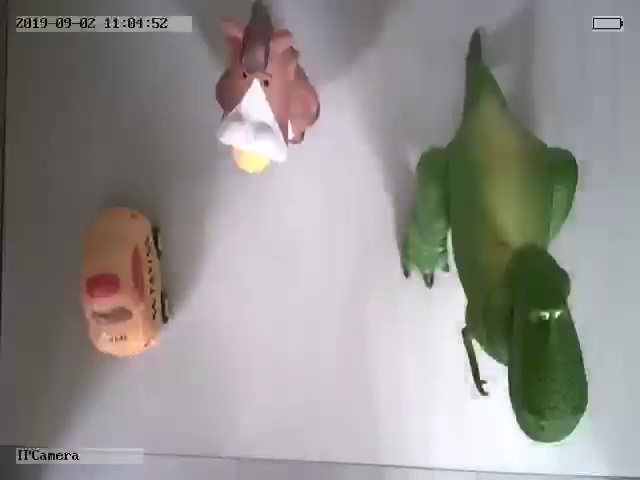car: (77, 206, 172, 359)
horse: (210, 3, 322, 174)
rex: (403, 35, 590, 445)
